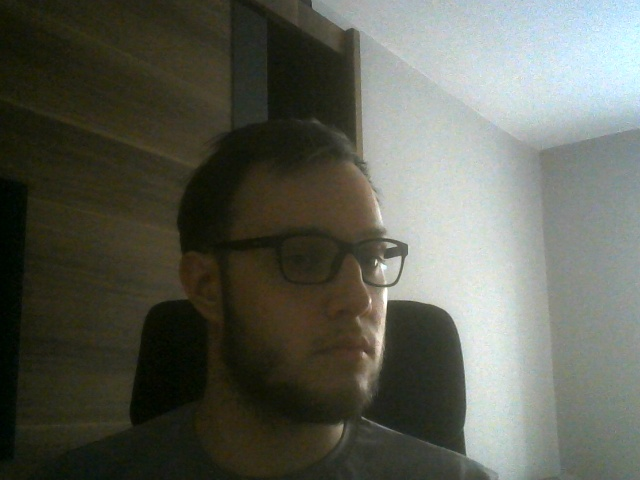neutral: (179, 120, 411, 419)
